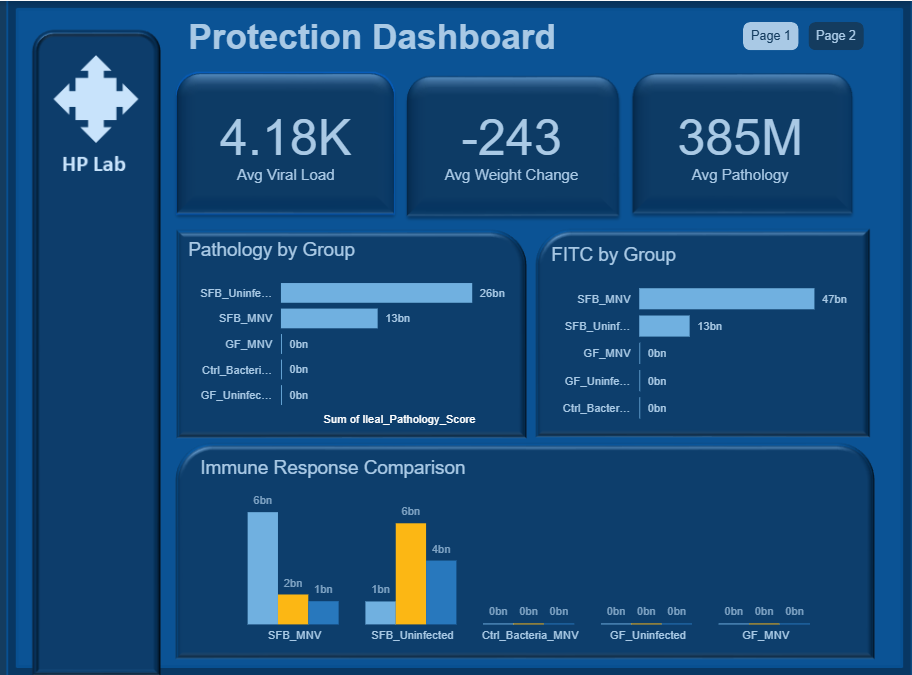

This screenshot's page, from the dashboard's own definition file:
{"tool":"powerbi","page":{"name":"Page 2","canvas":[1280,720],"ordinal":1},"visuals":[{"type":"barChart","title":"Pathology by Group","fields":{"Category":["Sheet2.Group"],"Y":["Sum(Sheet2.Ileal_Pathology_Score)"]},"box":[348.3,252.9,359.5,202],"z":0},{"type":"barChart","title":"FITC by Group","fields":{"Category":["Sheet2.Group"],"Y":["Sum(Sheet2.Serum_FITC_Dextran_ug_ml)"]},"box":[733.3,257.7,340.4,202],"z":1000},{"type":"clusteredColumnChart","title":"Immune Response Comparison","fields":{"Category":["Sheet2.Group"],"Y":["Sheet2.Avg IFN Gamma","Sheet2.Avg IFN Lambda","Sheet2.Avg IL 22"]},"box":[361.1,483.5,709.4,205.2],"z":2000},{"type":"card","fields":{"Values":["Sheet2.Avg Viral Load"]},"box":[348.3,85.9,216.3,127.2],"z":2001},{"type":"card","fields":{"Values":["Sheet2.Avg Weight Change"]},"box":[599.7,85.9,192.5,127.2],"z":2002},{"type":"card","fields":{"Values":["Sheet2.Avg Pathology"]},"box":[844.6,85.9,187.7,127.2],"z":2003},{"type":"textbox","box":[348.3,11.1,415.1,58.9],"z":2004},{"type":"pageNavigator","box":[941.6,22.3,128.8,30.2],"z":2005}]}

Visuals, with their boxes on the page's 1280x720 design canvas (x1, y1, x2, y2). These are canvas units, not pixel positions in the 912x675 screenshot, which may show the page scaled, cropped or inside an application window:
"Pathology by Group" barChart: 348,253,708,455
"FITC by Group" barChart: 733,258,1074,460
"Immune Response Comparison" clusteredColumnChart: 361,484,1070,689
card - Sheet2.Avg Viral Load: 348,86,565,213
card - Sheet2.Avg Weight Change: 600,86,792,213
card - Sheet2.Avg Pathology: 845,86,1032,213
textbox: 348,11,763,70
pageNavigator: 942,22,1070,52
